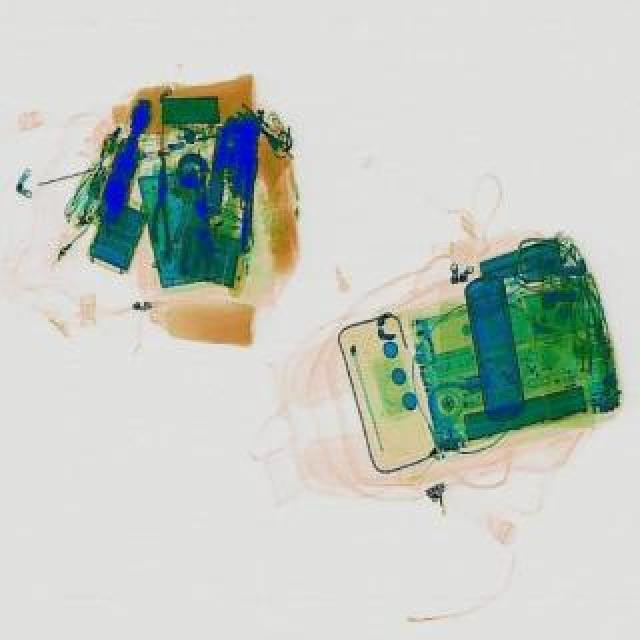wrench: (144, 156, 174, 252)
